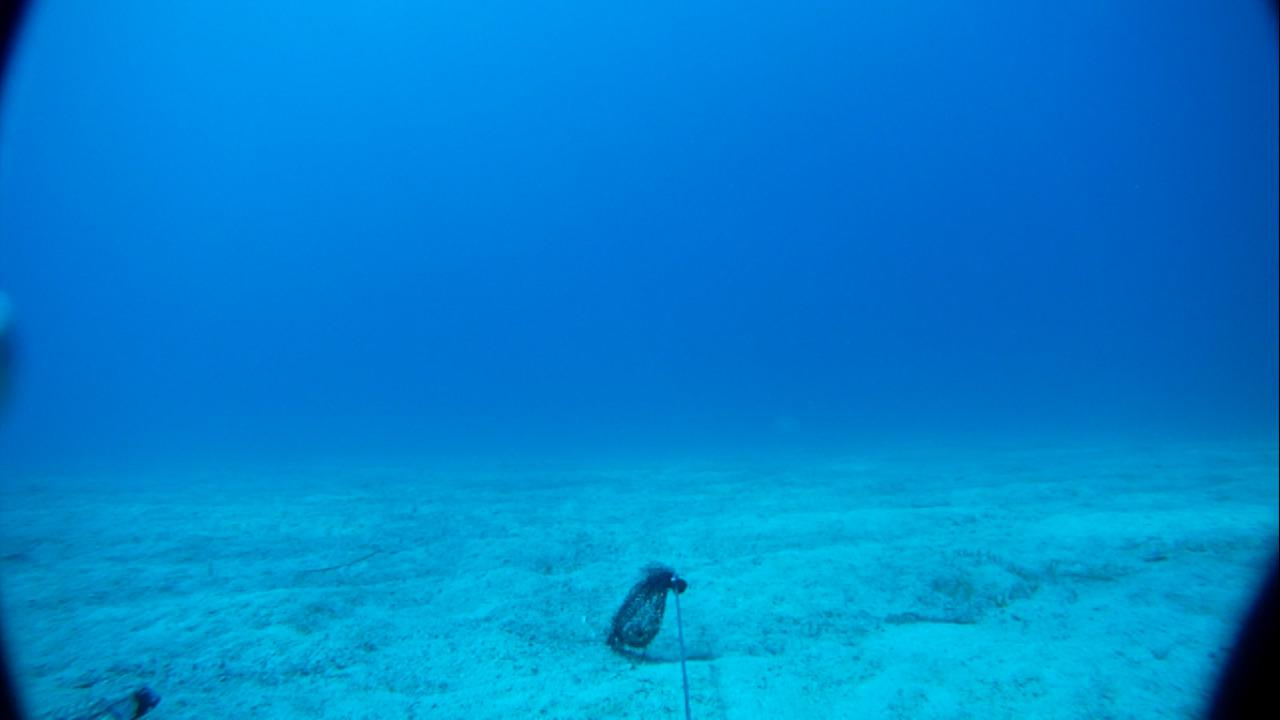dactylopterus: (38, 675, 163, 719)
